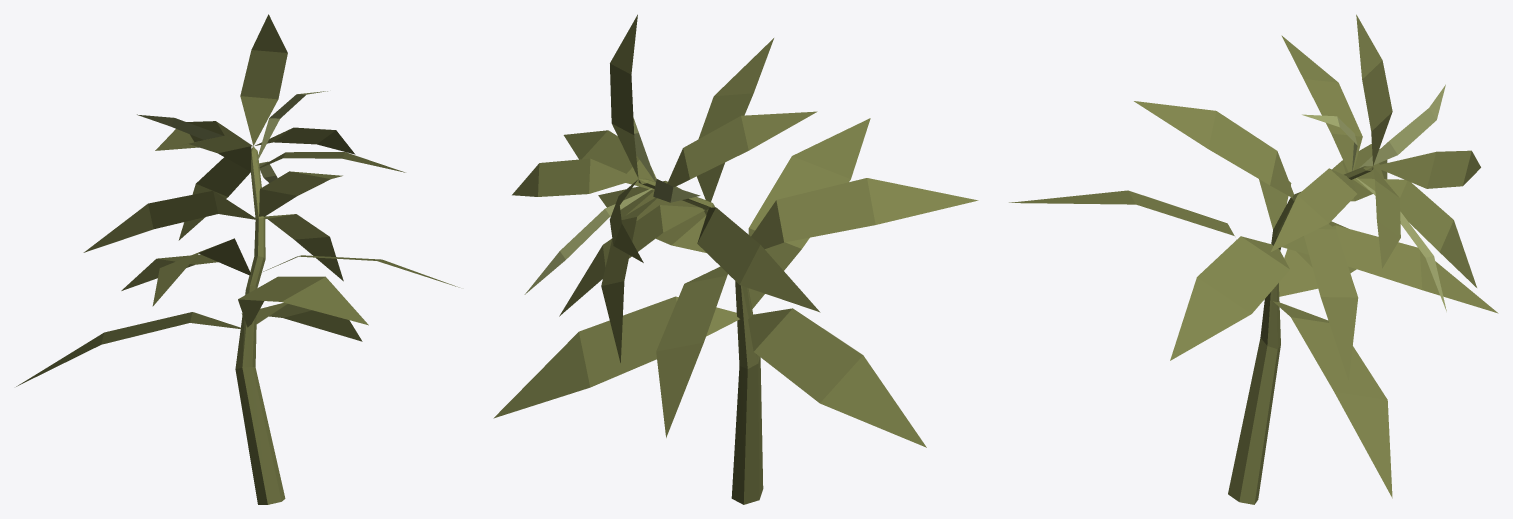
The model's file is herbAction.fbx.
3 renders of one model, left to right at view 1: azimuth 30°, elevation 25°; view 2: azimuth 150°, elevation 25°; view 3: azimuth 270°, elevation 25°, orthographic. The views are drawn at different scales.
Parts seen in each view (by area): view 1: herbAction; view 2: herbAction; view 3: herbAction.
Boxes of the visible parts, x1,y1,x2,y2 form: herbAction: [16, 14, 459, 504]; herbAction: [493, 14, 978, 504]; herbAction: [1009, 14, 1498, 504].
Size of the model in its own units: 1.81 by 2.1 by 1.82.
